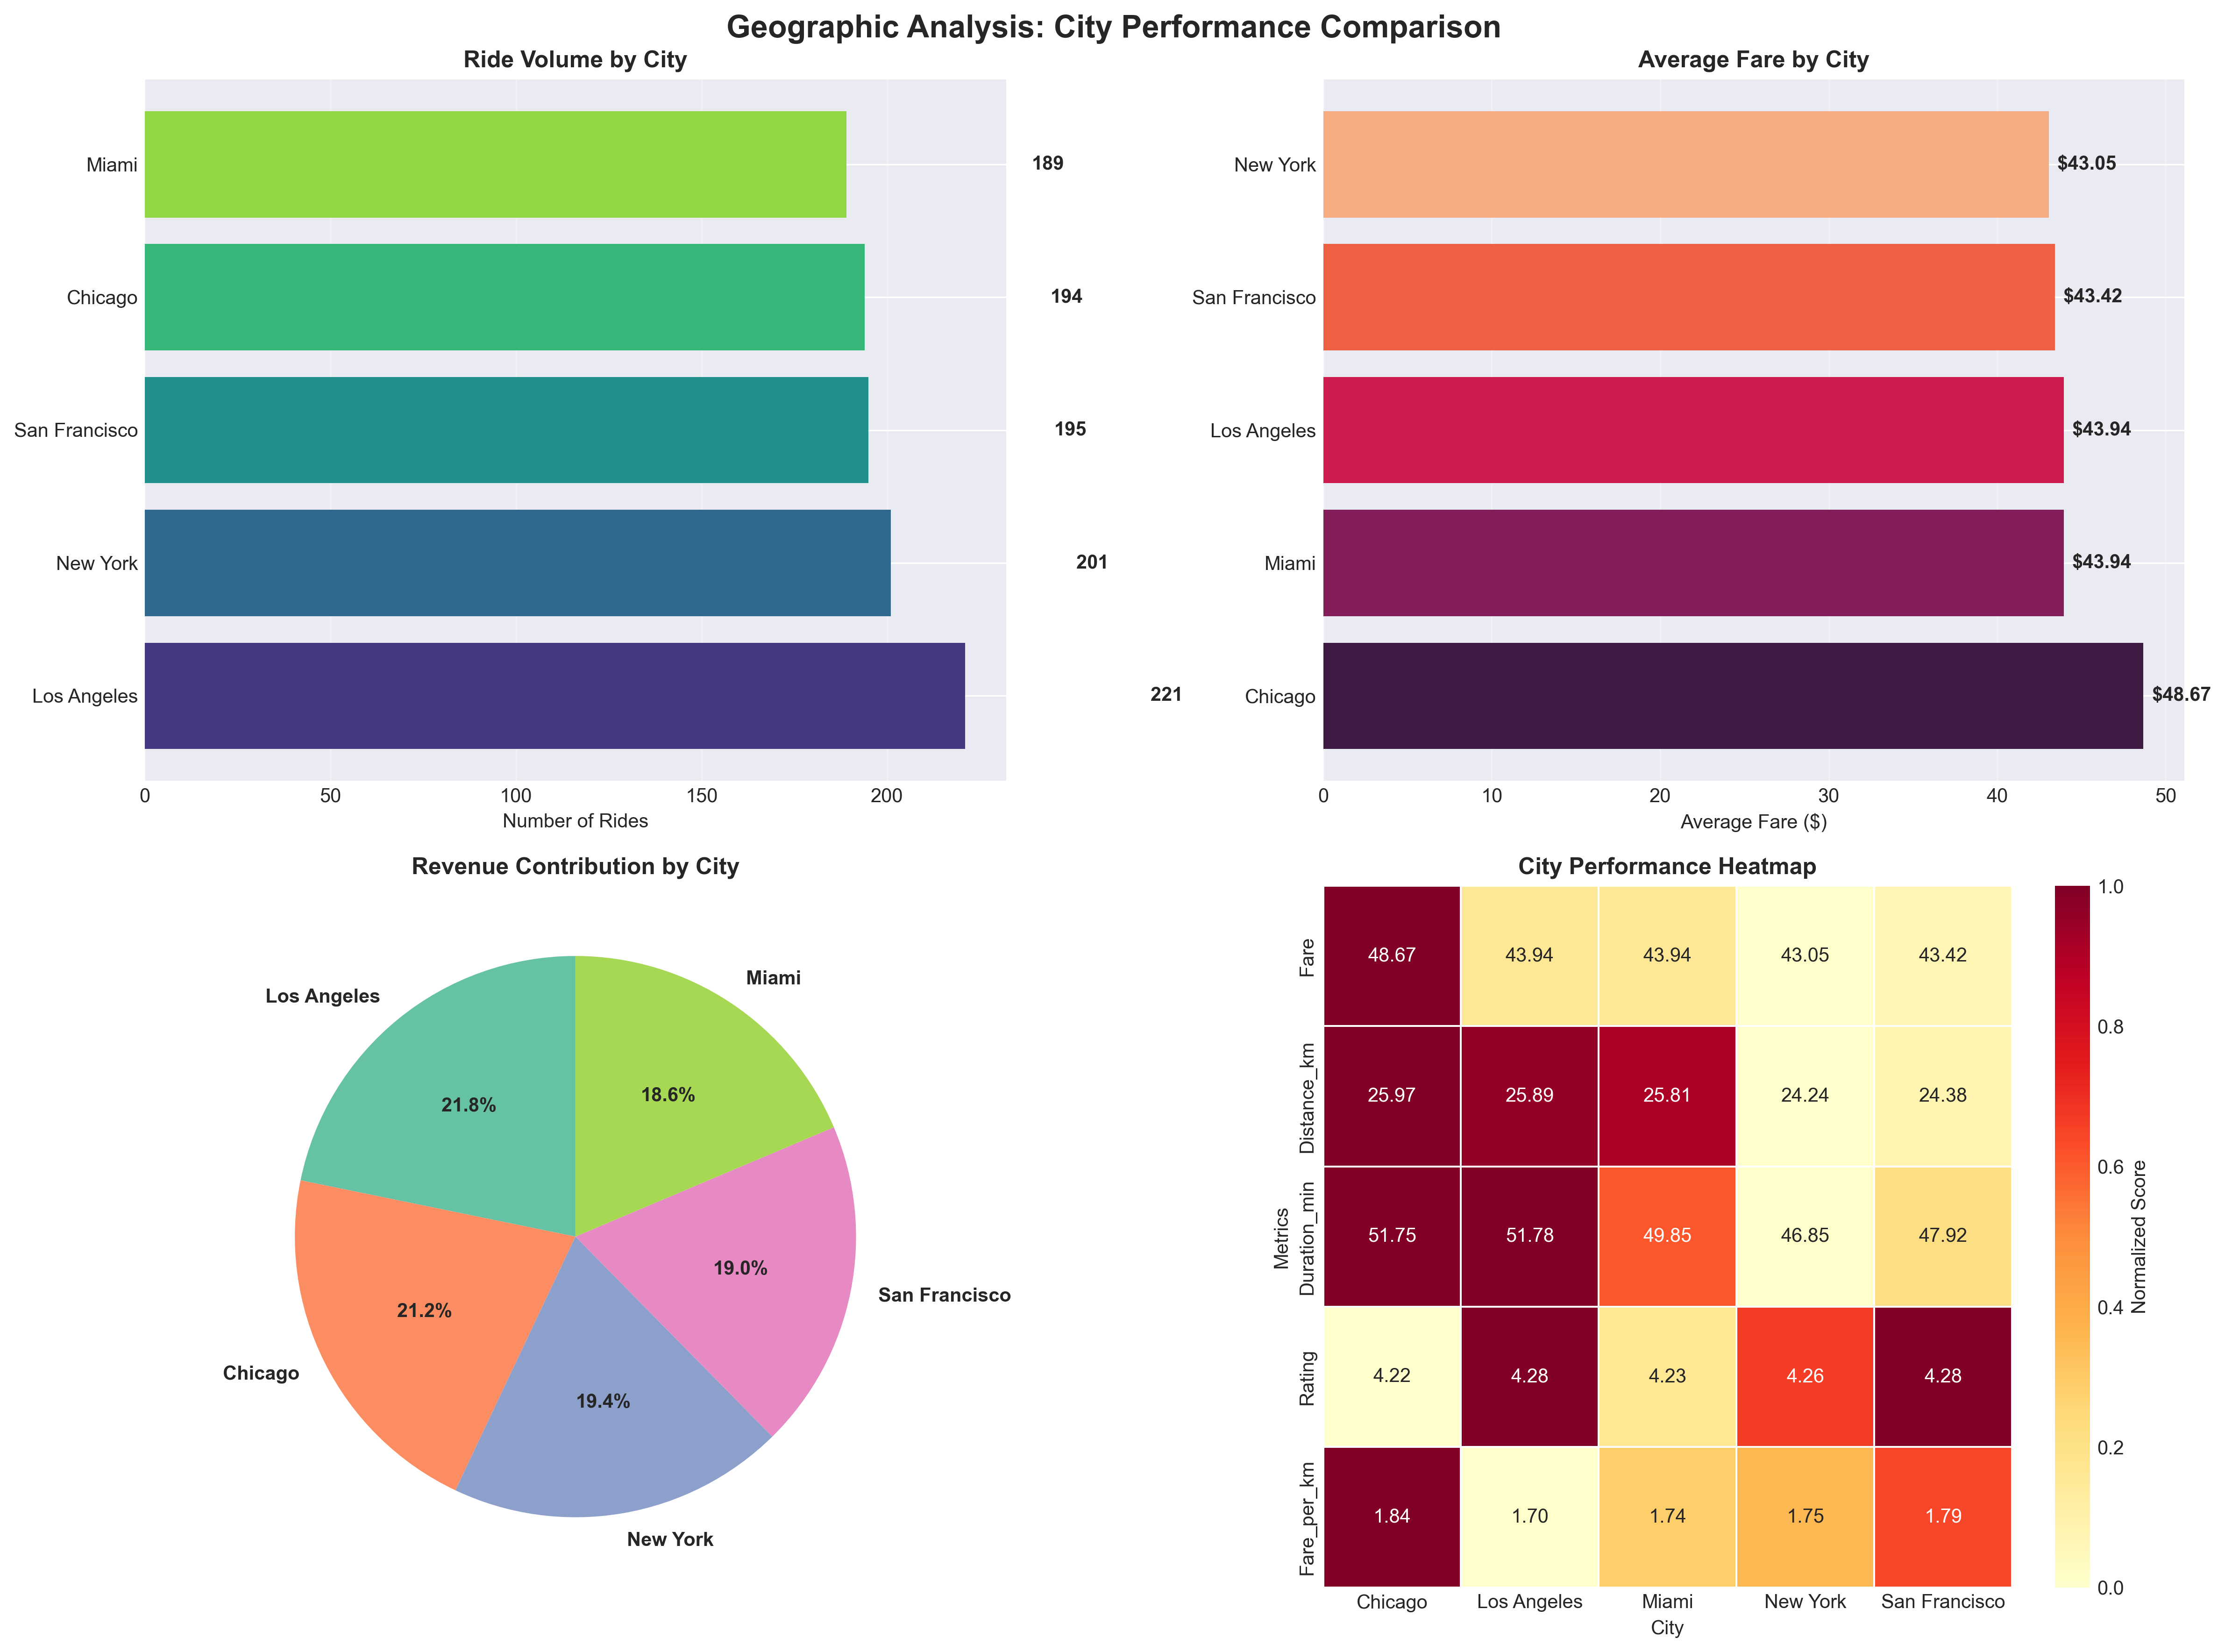

The dashboard page shown, as its layout file describes it:
{"tool":"tableau","page":{"name":"Geographic Analysis","canvas":[1545,935],"ordinal":1},"visuals":[{"type":"image","param":"Image/my dashy background2.jpg","box":[0,0,1545,935]},{"type":"text","box":[182,37,457,30]},{"type":"text","box":[166,81,1346,64]},{"type":"image","param":"Image/CBS_Guest2.png","box":[31,91,126,82]},{"type":"blank","box":[166,145,1346,10]},{"type":"blank","box":[166,155,20,750]},{"type":"blank","box":[1492,155,20,750]},{"type":"worksheet","title":"Total Revenue (2)","mark":"Automatic","box":[190,159,433,61]},{"type":"worksheet","title":"Total Rides (2)","mark":"Automatic","box":[623,159,433,61]},{"type":"worksheet","title":"Average Revenue per Ride","mark":"Automatic","box":[1056,159,432,76]},{"type":"text","box":[31,173,126,45]},{"type":"blank","box":[27,246,134,10]},{"type":"text","box":[194,250,139,40]},{"type":"worksheet","title":"Info - Analysis by City","mark":"Shape","rows":["Calculation_4254494283448487939"],"box":[333,250,35,40]},{"type":"image","param":"Image/nav3.png","box":[31,260,126,28.5]},{"type":"text","box":[31,288.5,126,28.5]},{"type":"worksheet","title":"Rounded Angles","mark":"Automatic","box":[194,290,1290,307]},{"type":"worksheet","title":"Analysis by City","mark":"Automatic","box":[215,301,1246,284]},{"type":"legend","title":"Analysis by City","param":"[federated.0rdon331r0s0vi1b5az8y1df2ouw].[sum:fare_usd:qk]","box":[1341,305,128,57]},{"type":"dashboard-object","box":[27,321,134,37]},{"type":"dashboard-object","box":[27,358,134,37]},{"type":"dashboard-object","box":[27,395,134,37]},{"type":"blank","box":[27,432,134,16]},{"type":"image","param":"Image/filter.png","box":[35,456,118,26]},{"type":"text","box":[35,482,118,26]},{"type":"filter","title":"Analysis by City","param":"[federated.0rdon331r0s0vi1b5az8y1df2ouw].[none:Full Date (copie)_371666597106969","box":[35,512,118,77]},{"type":"filter","title":"Analysis by City","param":"[federated.0rdon331r0s0vi1b5az8y1df2ouw].[none:Ride City (copie)_371666597107084","box":[35,589,118,51]},{"type":"blank","box":[190,601,1298,10]},{"type":"text","box":[190,611,336,40]},{"type":"worksheet","title":"Info - Revenue, Duration and Distance by City","mark":"Shape","rows":["Calculation_4254494283448487939"],"box":[526,611,35,40]},{"type":"blank","box":[1158,611,30,270]},{"type":"text","box":[1188,611,185,40]},{"type":"worksheet","title":"Info - Revenue Contribution by City","mark":"Shape","rows":["Calculation_4254494283448487939"],"box":[1373,611,35,40]},{"type":"blank","box":[31,648,126,16]},{"type":"worksheet","title":"Rounded Angles (2)","mark":"Automatic","box":[190,651,968,230]},{"type":"worksheet","title":"Rounded Angles (3)","mark":"Automatic","box":[1188,651,300,210]},{"type":"worksheet","title":"Revenue, Duration and Distance by City","mark":"Automatic","rows":["ride_city"],"cols":["fare_usd","duration_min","distance_km"],"box":[203,664,941,205]},{"type":"worksheet","title":"Revenue Contribution by City","mark":"Pie","cols":["Calculation_3716665971090399236","Calculation_3716665971090411526"],"box":[1202,666,272,181]},{"type":"text","box":[27,680,134,23]},{"type":"dashboard-object","box":[27,703,134,56]},{"type":"blank","box":[27,761,134,16]},{"type":"blank","box":[27,777,134,130]}]}

Visuals, with their boxes on the page's 1545x935 design canvas (x1, y1, x2, y2). These are canvas units, not pixel positions in the 2225x1652 screenshot, which may show the page scaled, cropped or inside an application window:
image: (left=0, top=0, right=1545, bottom=935)
text: (left=182, top=37, right=639, bottom=67)
text: (left=166, top=81, right=1512, bottom=145)
image: (left=31, top=91, right=157, bottom=173)
blank: (left=166, top=145, right=1512, bottom=155)
blank: (left=166, top=155, right=186, bottom=905)
blank: (left=1492, top=155, right=1512, bottom=905)
"Total Revenue (2)" worksheet: (left=190, top=159, right=623, bottom=220)
"Total Rides (2)" worksheet: (left=623, top=159, right=1056, bottom=220)
"Average Revenue per Ride" worksheet: (left=1056, top=159, right=1488, bottom=235)
text: (left=31, top=173, right=157, bottom=218)
blank: (left=27, top=246, right=161, bottom=256)
text: (left=194, top=250, right=333, bottom=290)
"Info - Analysis by City" worksheet (Shape marks): (left=333, top=250, right=368, bottom=290)
image: (left=31, top=260, right=157, bottom=288)
text: (left=31, top=288, right=157, bottom=317)
"Rounded Angles" worksheet: (left=194, top=290, right=1484, bottom=597)
"Analysis by City" worksheet: (left=215, top=301, right=1461, bottom=585)
"Analysis by City" legend: (left=1341, top=305, right=1469, bottom=362)
dashboard-object: (left=27, top=321, right=161, bottom=358)
dashboard-object: (left=27, top=358, right=161, bottom=395)
dashboard-object: (left=27, top=395, right=161, bottom=432)
blank: (left=27, top=432, right=161, bottom=448)
image: (left=35, top=456, right=153, bottom=482)
text: (left=35, top=482, right=153, bottom=508)
"Analysis by City" filter: (left=35, top=512, right=153, bottom=589)
"Analysis by City" filter: (left=35, top=589, right=153, bottom=640)
blank: (left=190, top=601, right=1488, bottom=611)
text: (left=190, top=611, right=526, bottom=651)
"Info - Revenue, Duration and Distance by City" worksheet (Shape marks): (left=526, top=611, right=561, bottom=651)
blank: (left=1158, top=611, right=1188, bottom=881)
text: (left=1188, top=611, right=1373, bottom=651)
"Info - Revenue Contribution by City" worksheet (Shape marks): (left=1373, top=611, right=1408, bottom=651)
blank: (left=31, top=648, right=157, bottom=664)
"Rounded Angles (2)" worksheet: (left=190, top=651, right=1158, bottom=881)
"Rounded Angles (3)" worksheet: (left=1188, top=651, right=1488, bottom=861)
"Revenue, Duration and Distance by City" worksheet: (left=203, top=664, right=1144, bottom=869)
"Revenue Contribution by City" worksheet (Pie marks): (left=1202, top=666, right=1474, bottom=847)
text: (left=27, top=680, right=161, bottom=703)
dashboard-object: (left=27, top=703, right=161, bottom=759)
blank: (left=27, top=761, right=161, bottom=777)
blank: (left=27, top=777, right=161, bottom=907)
